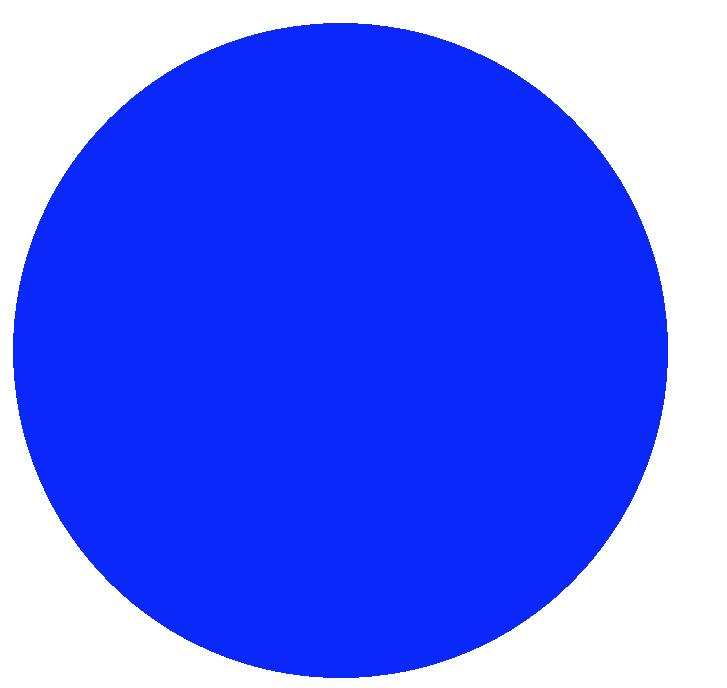blue_circle: (5, 19, 688, 687)
